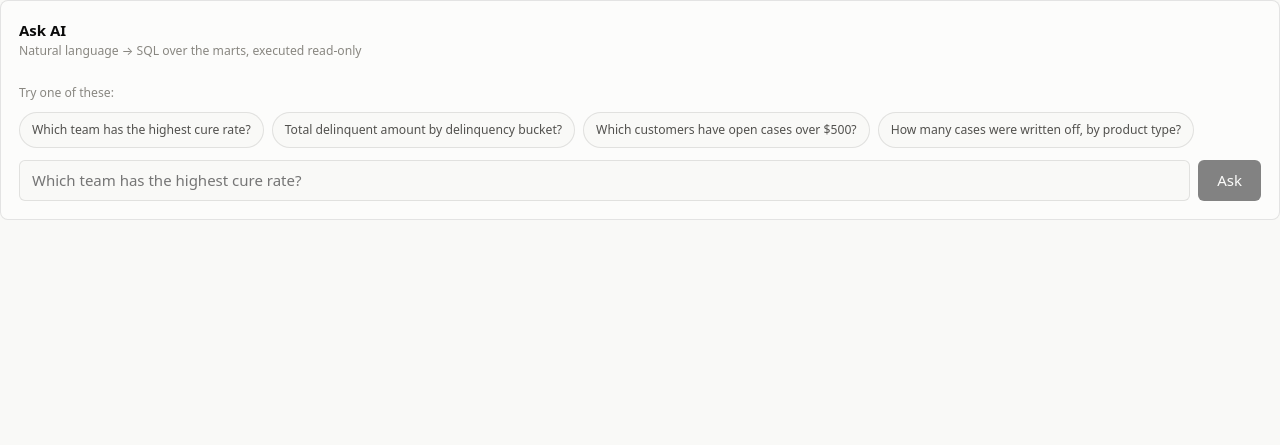
Scenario: ChatPage › renders a failure in the thread rather than throwing
The width and height of the screenshot is (1280, 445).
Click the button "Which team has the highest cure rate?": click(141, 130) top-left (19, 112), bottom-right (264, 148)
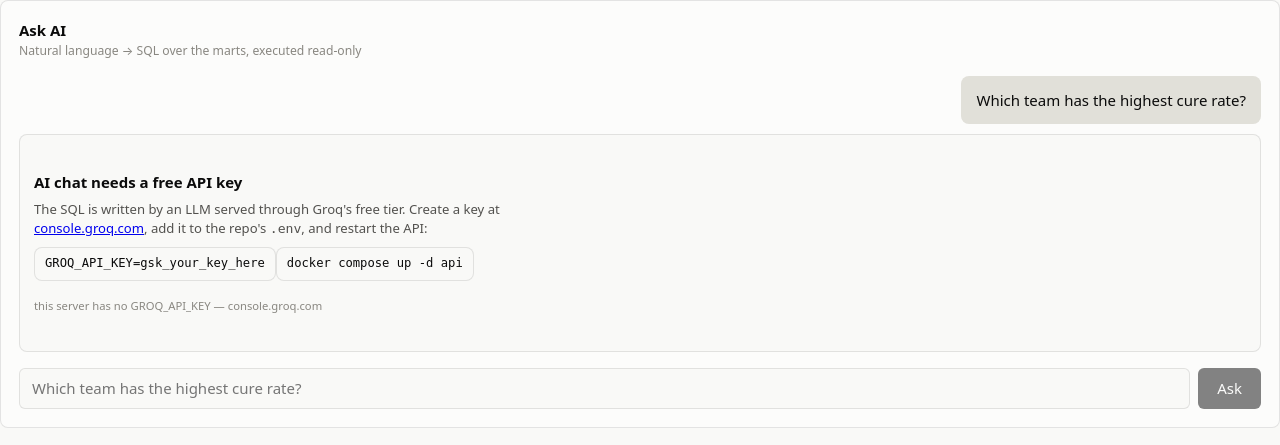
Expected: the field named "Ask a question about the collections data" is enabled, top-left (19, 368), bottom-right (1190, 408)
Expected: the text "AI chat needs a free API key" is shown, top-left (34, 172), bottom-right (242, 192)
